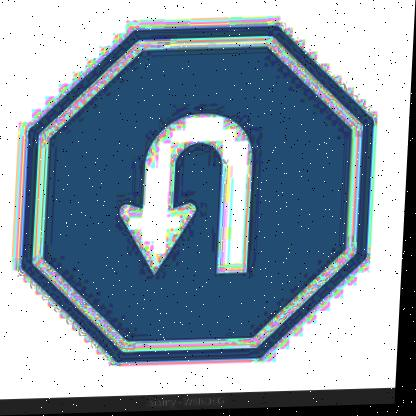U-turn: (15, 25, 383, 370)
